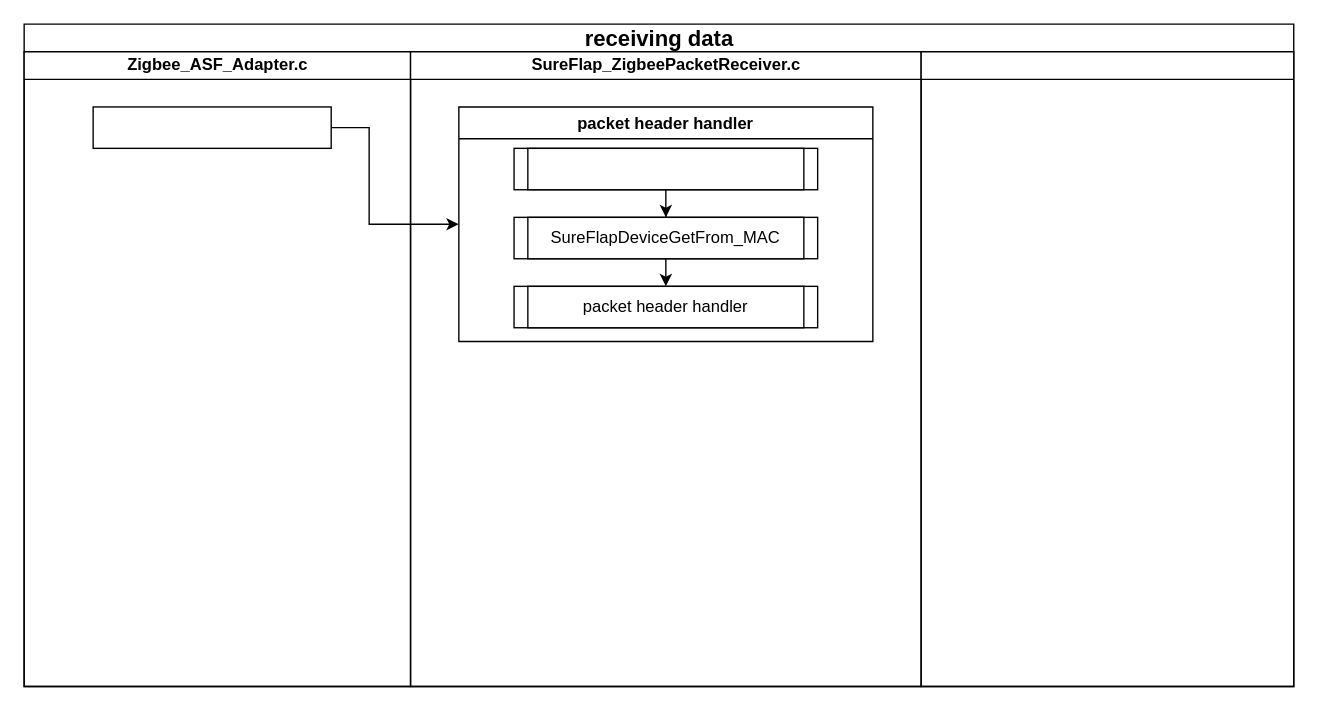
This 1318x711 diagram has some shape labels left out. Each missing label, with the centre of its shape:
Lane 3: (x=1107, y=368)
SureFlapZigbeeDecodeFrom_IEEE: (x=665, y=168)
usr_mcps_data_ind: (x=211, y=127)
